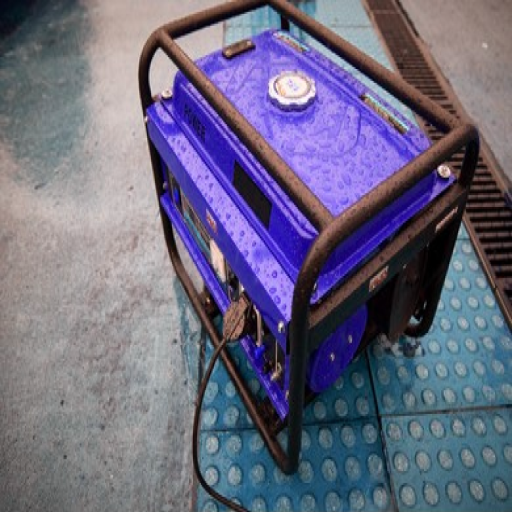portable_generator: (138, 1, 481, 474)
